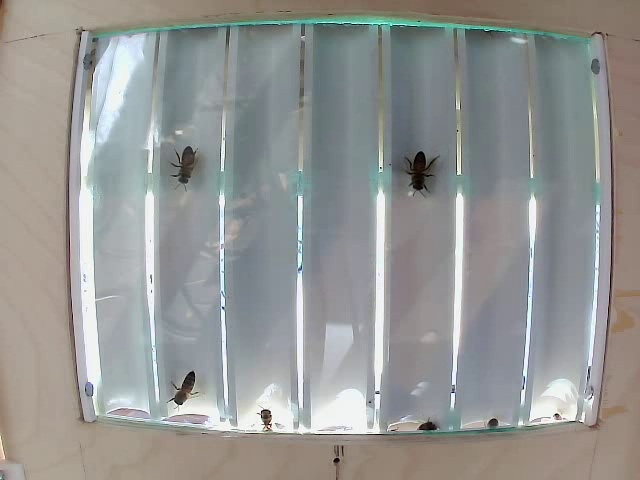bee: (389, 147, 437, 203), (166, 140, 205, 195), (152, 361, 200, 403)
